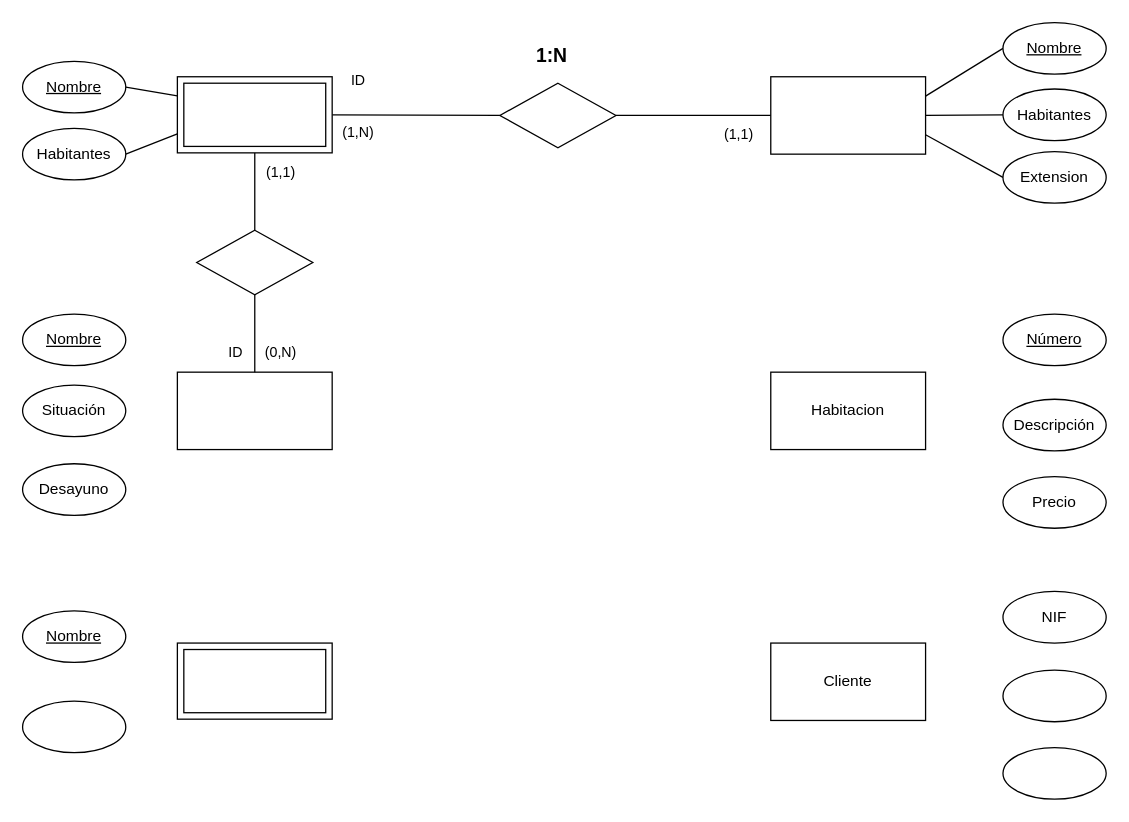
Some shapes in this 1129 by 822 pixel diagram are drawn without their labels. Each missing label, with the centre of its shape:
"Calle" goes at (x=254, y=680).
"Casa rural" goes at (x=254, y=410).
"Ciudad" goes at (x=254, y=114).
"Provincia" goes at (x=847, y=114).
